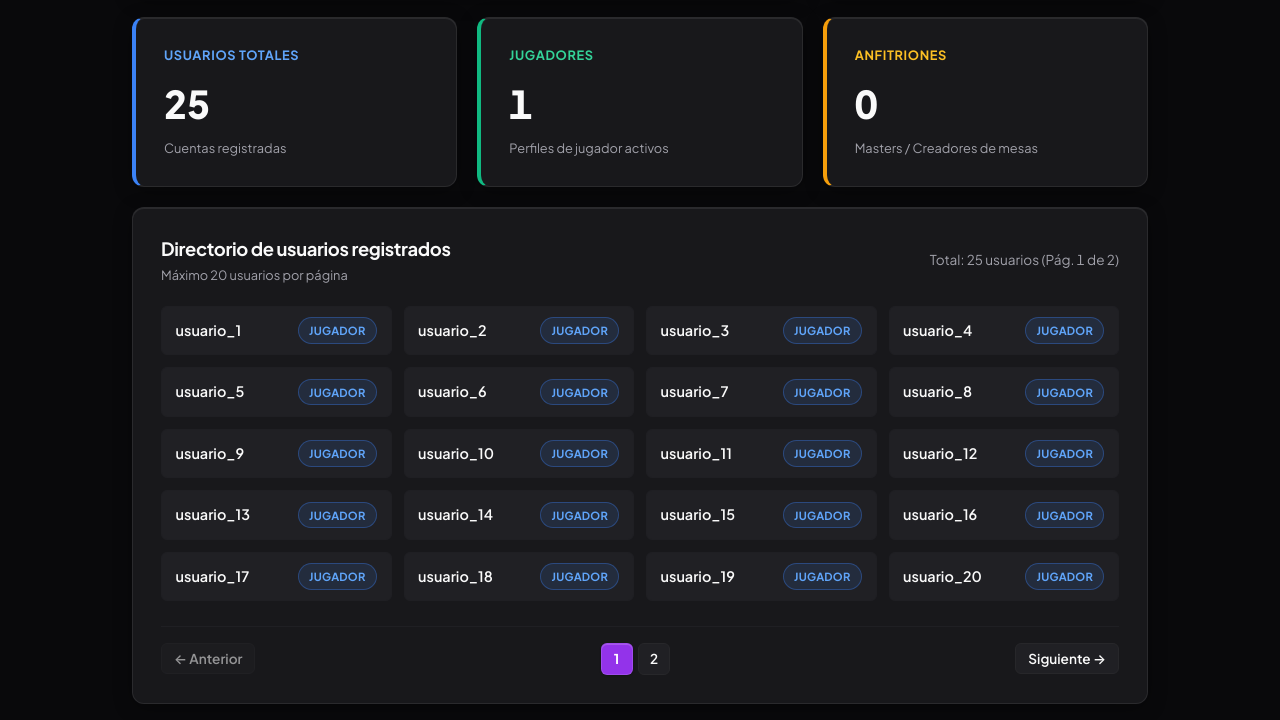
Test: DashboardPage › pagina el directorio de usuarios a un máximo de 20 por página
The image size is (1280, 720).
(page scrolled)
Expected: the text "usuario_1" is shown, left=176, top=320, right=241, bottom=341
Expected: the text "usuario_20" is shown, left=903, top=566, right=982, bottom=587
// Avanzar a la página 2
Click the button "Siguiente →" at (1067, 659), box left=1015, top=644, right=1119, bottom=674
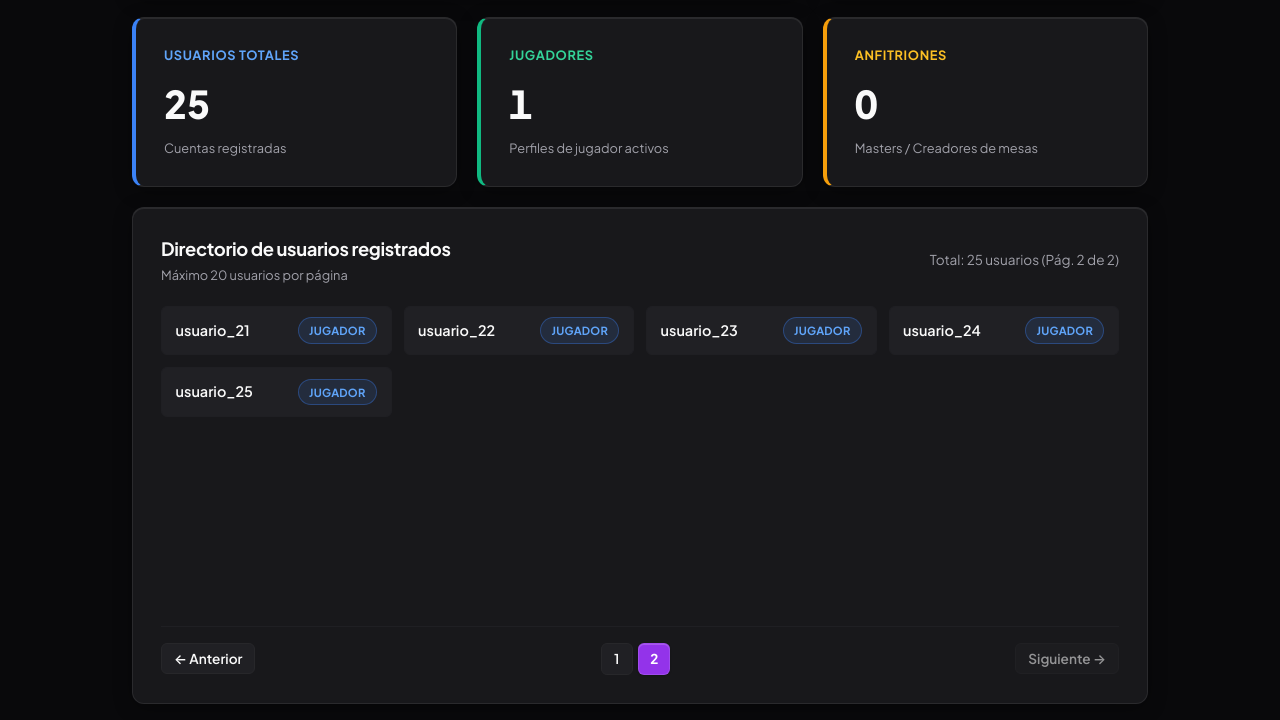
Expected: the text "Total: 25 usuarios (Pág. 2 de 2)" is shown, left=930, top=250, right=1119, bottom=271
Expected: the text "usuario_21" is shown, left=176, top=320, right=250, bottom=341
Expected: the text "usuario_25" is shown, left=176, top=381, right=253, bottom=403
// Volver a la página 1
Click the button "← Anterior" at (208, 659), box left=161, top=644, right=256, bottom=674
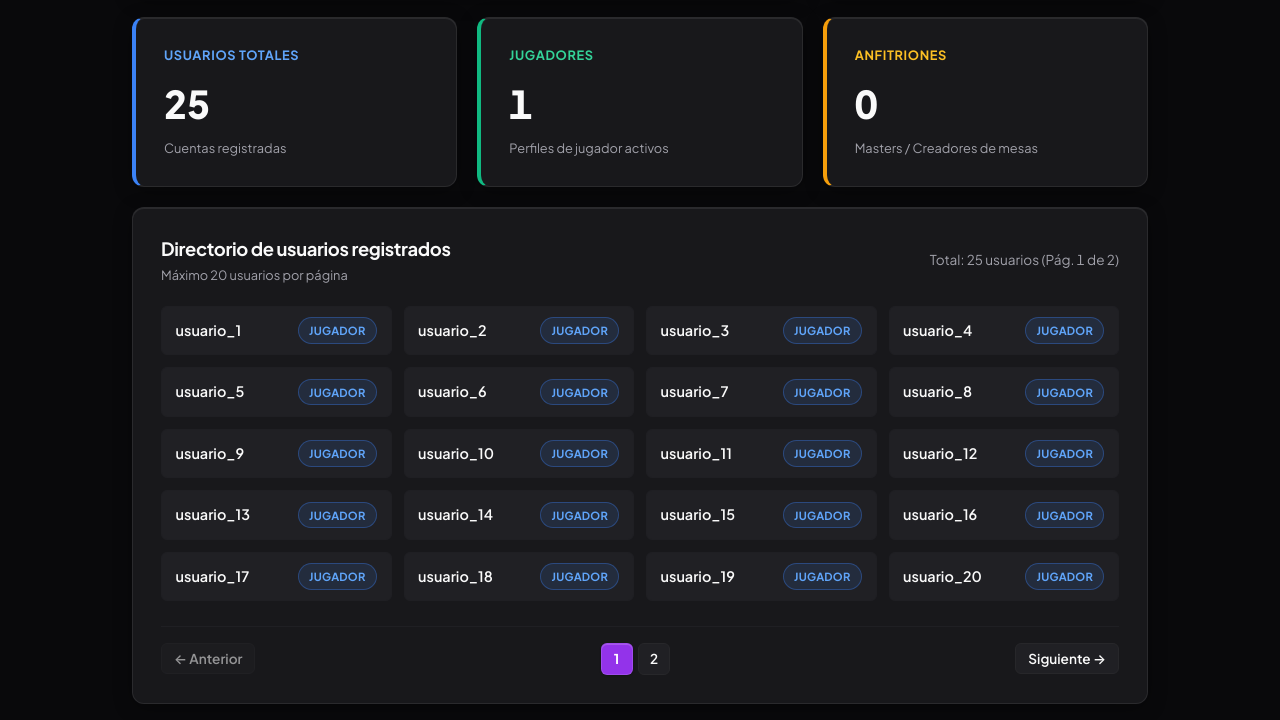
Expected: the text "Total: 25 usuarios (Pág. 1 de 2)" is shown, left=930, top=250, right=1119, bottom=271
Expected: the text "usuario_1" is shown, left=176, top=320, right=241, bottom=341
